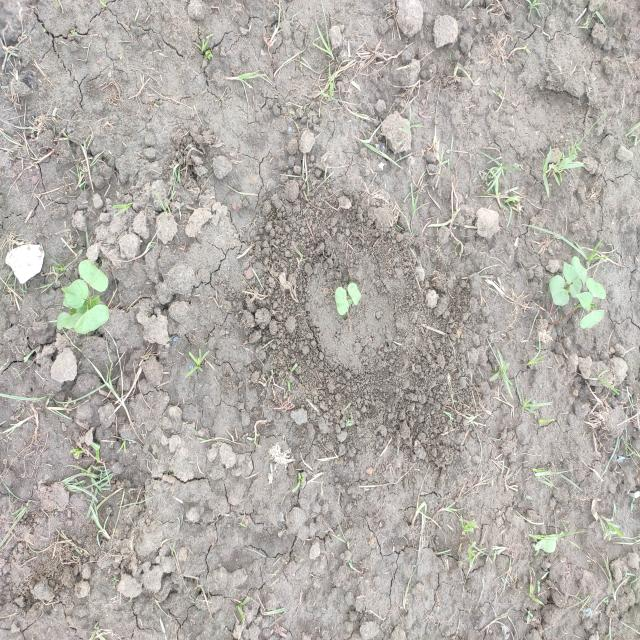seedling_s4: (74, 304, 110, 334), (78, 260, 108, 292), (61, 279, 89, 309), (549, 275, 569, 306), (579, 310, 604, 329), (56, 312, 83, 329), (571, 256, 587, 284), (586, 278, 606, 299), (335, 286, 349, 315), (563, 261, 578, 285), (576, 292, 593, 312), (347, 282, 361, 305), (569, 279, 582, 298), (76, 301, 91, 315), (89, 295, 102, 308)
